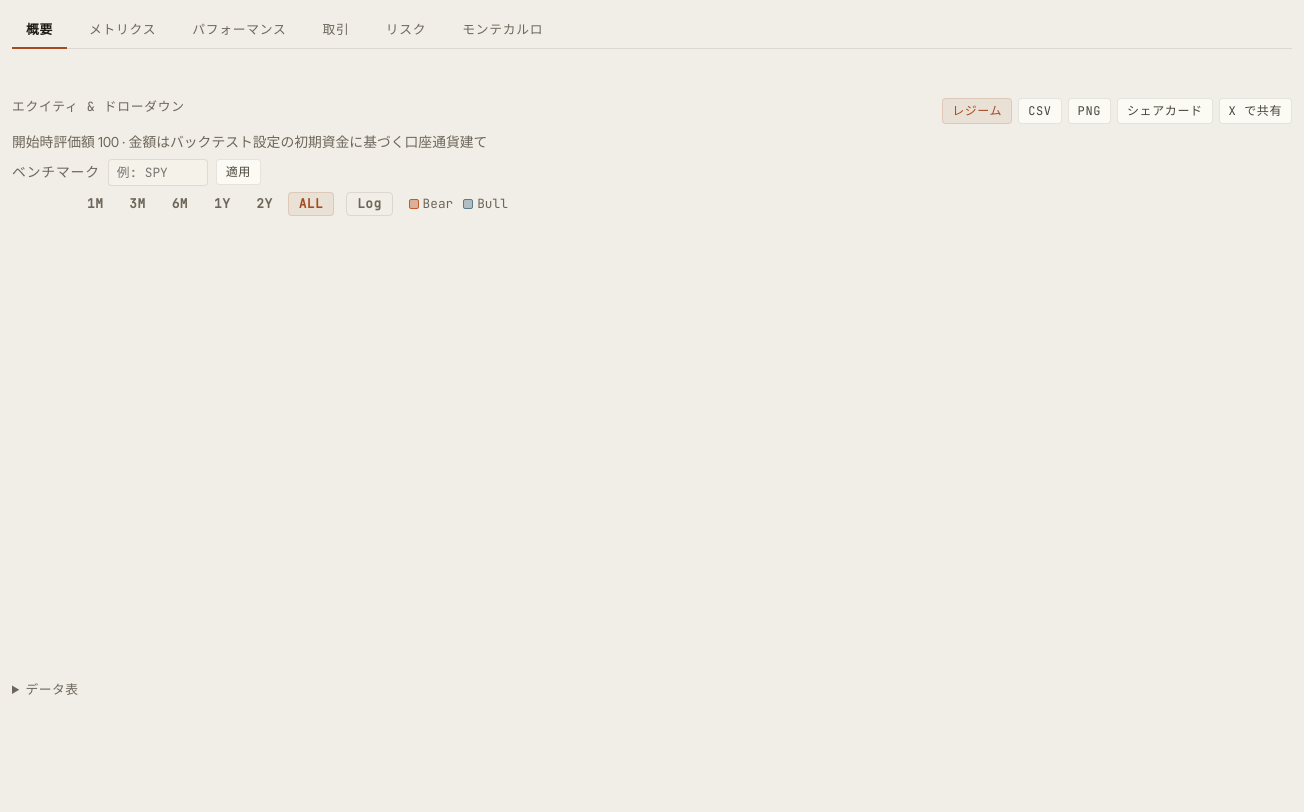
BacktestScreen custom benchmark (issue #370) › 銘柄を適用すると対ベンチ指標が表示される
Type "SPY" into the field named "ベンチマーク銘柄" at (158,172), box top-left (108, 159), bottom-right (208, 186)
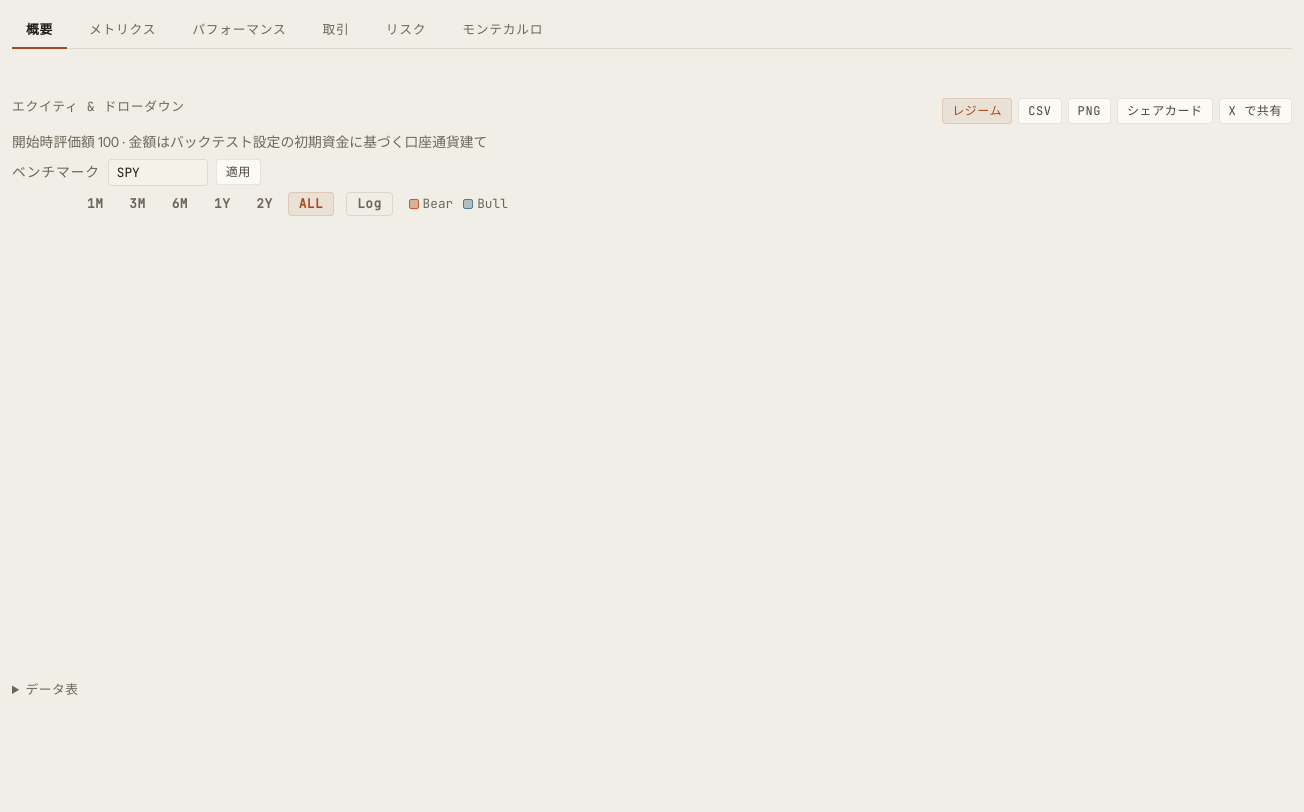
Click the button "適用" at (238,172), box top-left (216, 160), bottom-right (261, 186)
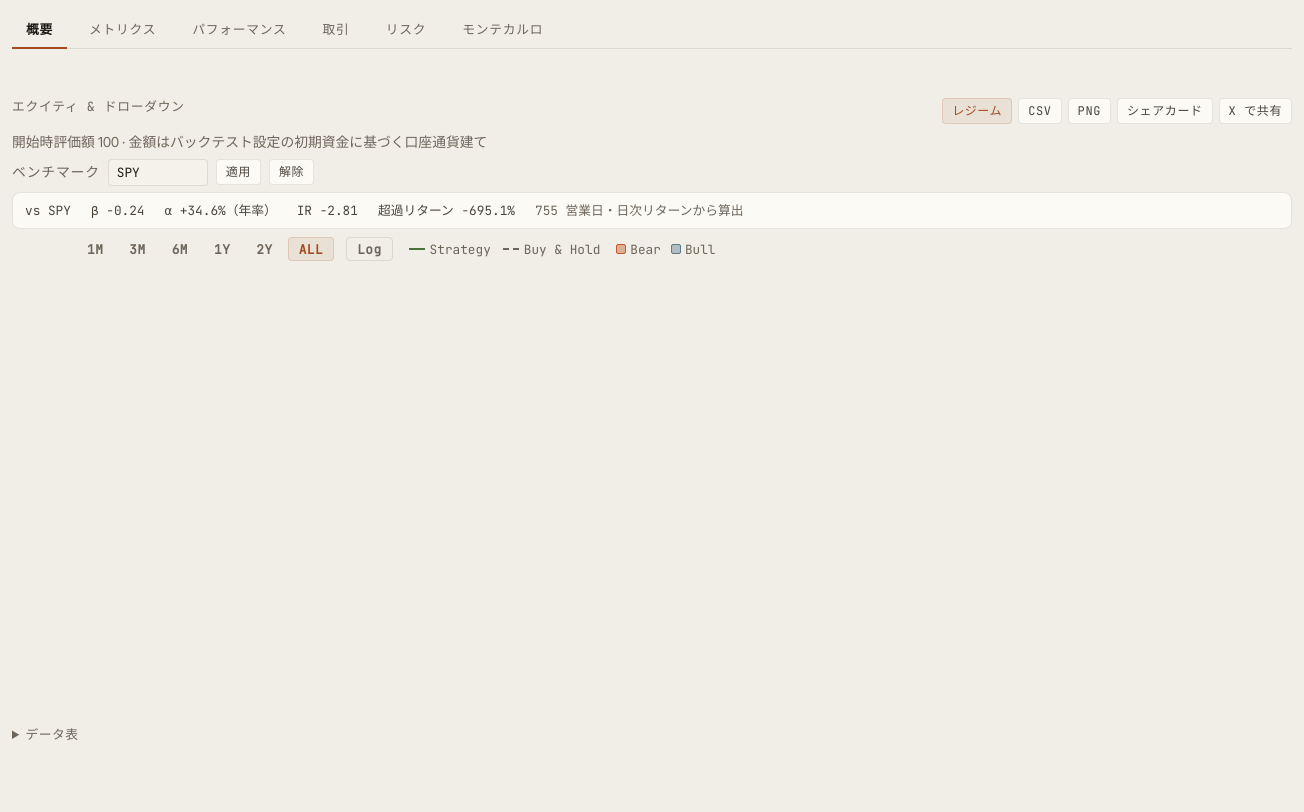
Expected: the element with test id "benchmark-stats" shows "vs SPY", top-left (12, 192), bottom-right (1292, 229)
Expected: the element with test id "benchmark-stats" shows "β", top-left (91, 202), bottom-right (106, 219)
Expected: the element with test id "benchmark-stats" shows "IR", top-left (297, 202), bottom-right (320, 219)
